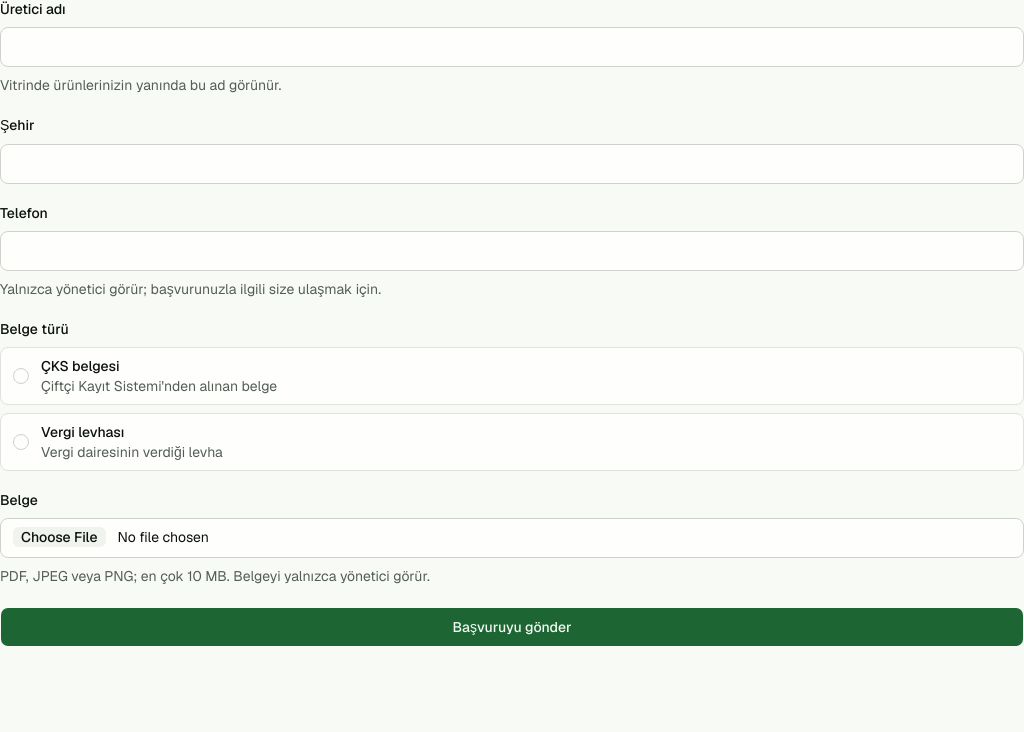
SellerApplicationForm › belge türü ve dosya seçilmeden gönderilmez; iki alan da hatasını gösterir
This screenshot has width=1024, height=732.
In the field labelled "Üretici adı": (512, 47) x1=0 y1=27 x2=1023 y2=67, type "Örnek Bahçe"
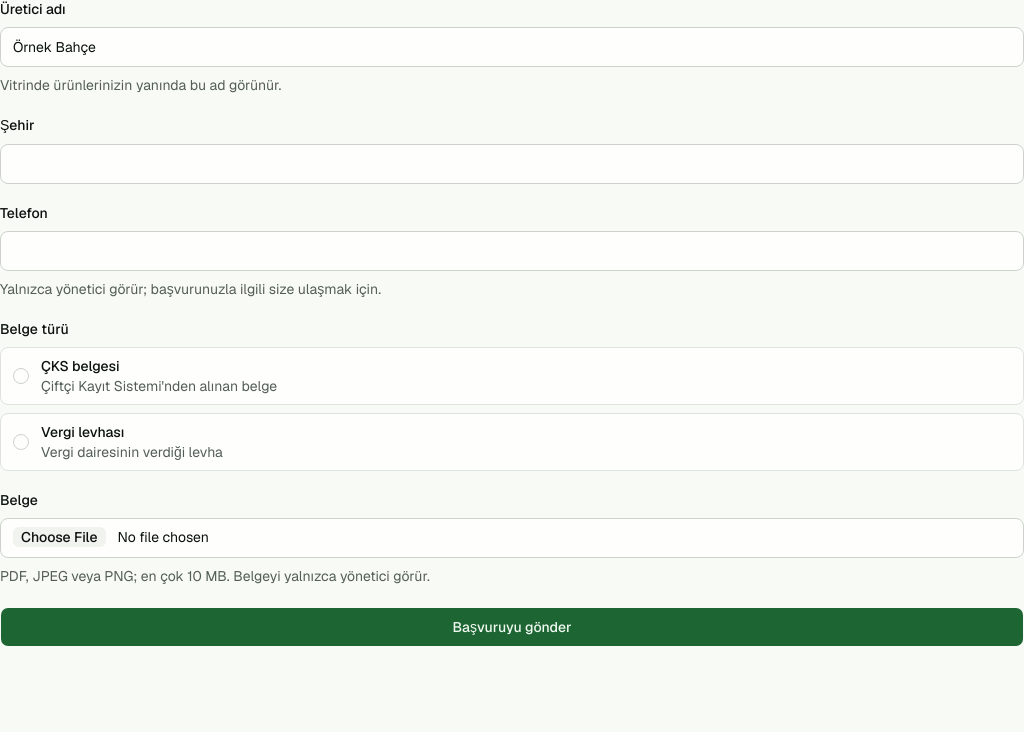
In the field labelled "Şehir": (512, 164) x1=0 y1=144 x2=1023 y2=184, type "Manisa"
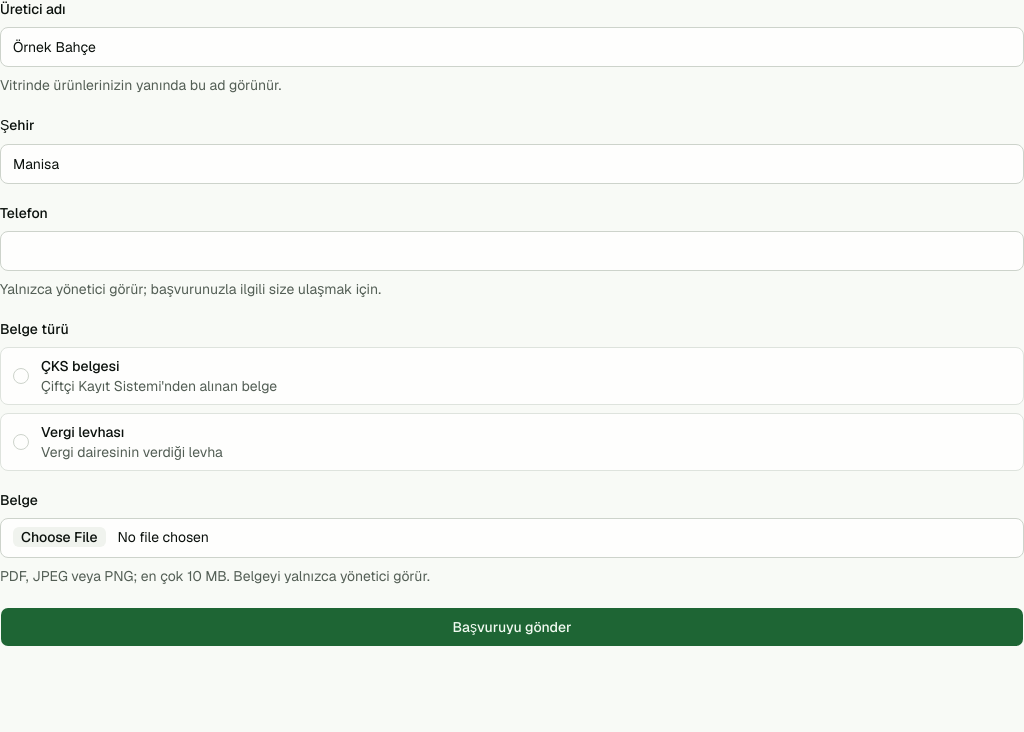
In the field labelled "Telefon": (512, 251) x1=0 y1=231 x2=1023 y2=271, type "0555 000 00 00"
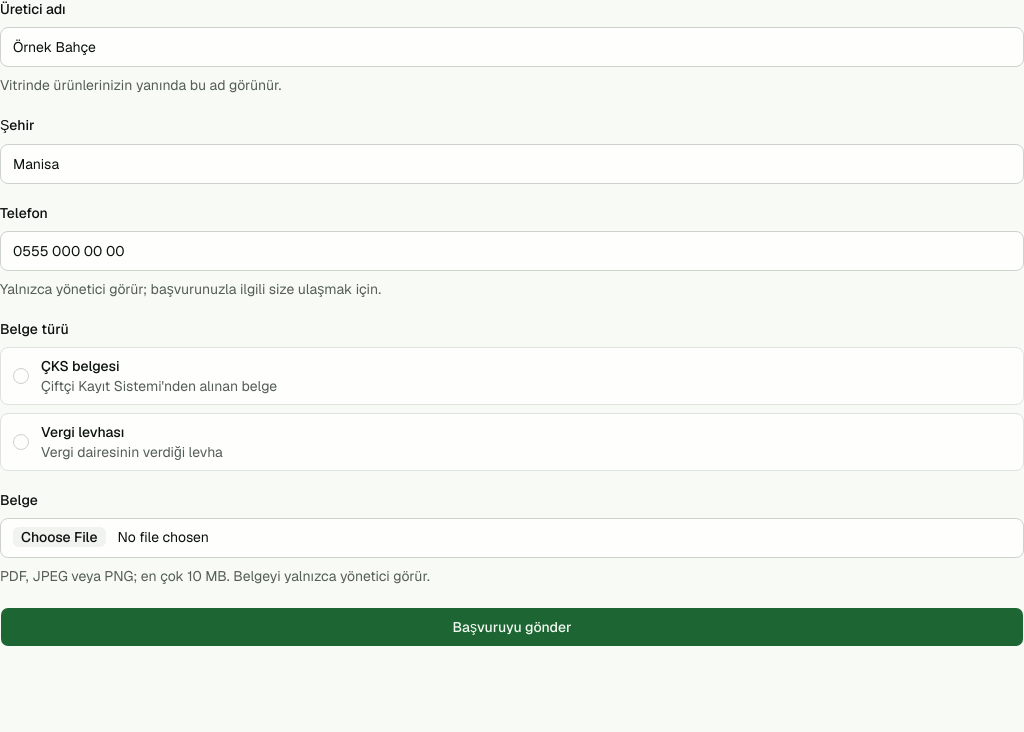
Click the button "Başvuruyu gönder": (512, 627) x1=0 y1=607 x2=1023 y2=647
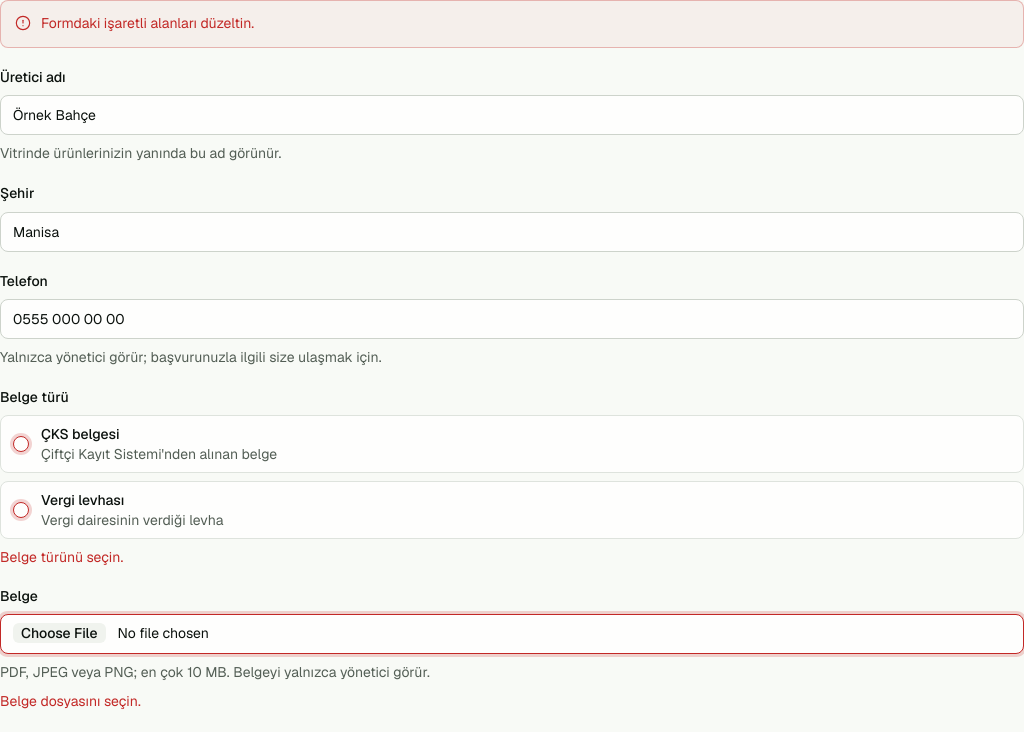
expect the text "Belge türünü seçin." is shown: met, box x1=0 y1=548 x2=123 y2=566
expect the text "Belge dosyasını seçin." is shown: met, box x1=0 y1=692 x2=141 y2=710
expect the text "Formdaki işaretli alanları düzeltin." is shown: met, box x1=41 y1=14 x2=254 y2=32
